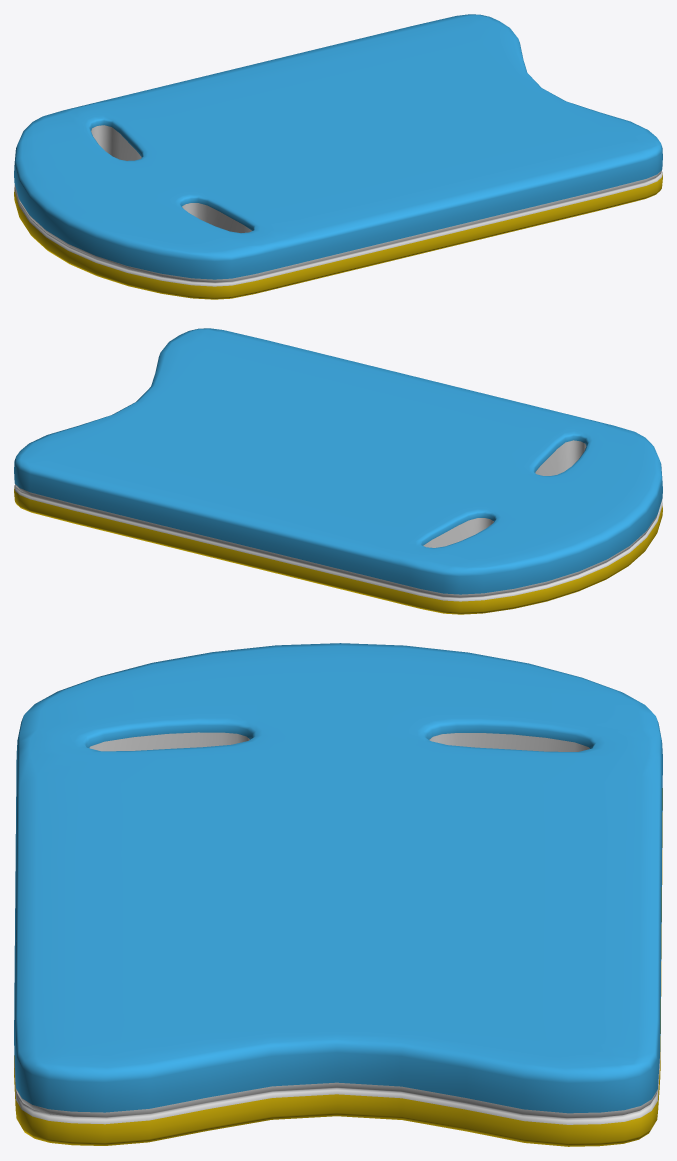
Rendered from swimmingTable (1).fbx.
3 views of the same model, one above another, from view 1: azimuth 30°, elevation 25°; view 2: azimuth 150°, elevation 25°; view 3: azimuth 270°, elevation 25° (orthographic). The views are drawn at different scales.
Visible parts, largest first — view 1: swimmingTable_low1; view 2: swimmingTable_low1; view 3: swimmingTable_low1.
Boxes of the visible parts, box(x1,y1,x2,y2) form: swimmingTable_low1: box(14, 14, 662, 299); swimmingTable_low1: box(14, 328, 662, 614); swimmingTable_low1: box(14, 643, 662, 1146).
Size of the model in its own units: 586 by 48.74 by 370.
